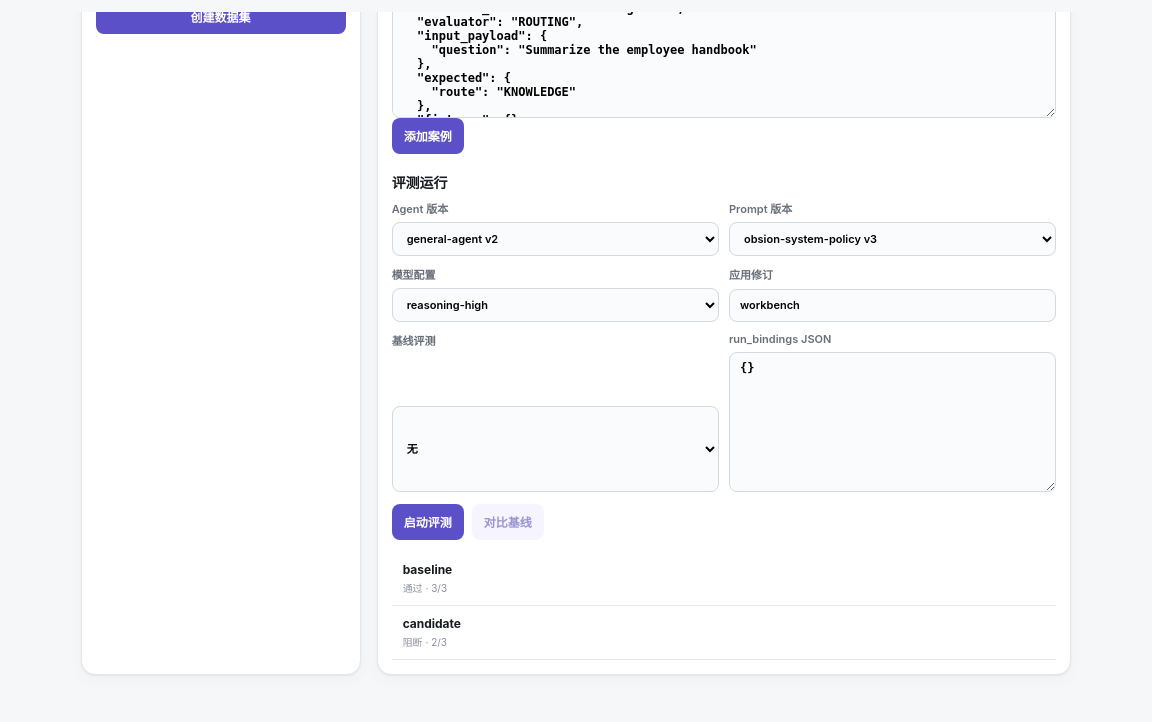
it: EvalView interactions › compares distinct same-dataset Runs and clears the baseline on dataset switch
Click the button "candidate 阻断 · 2/3" at [432, 623], box [392, 606, 1056, 660]
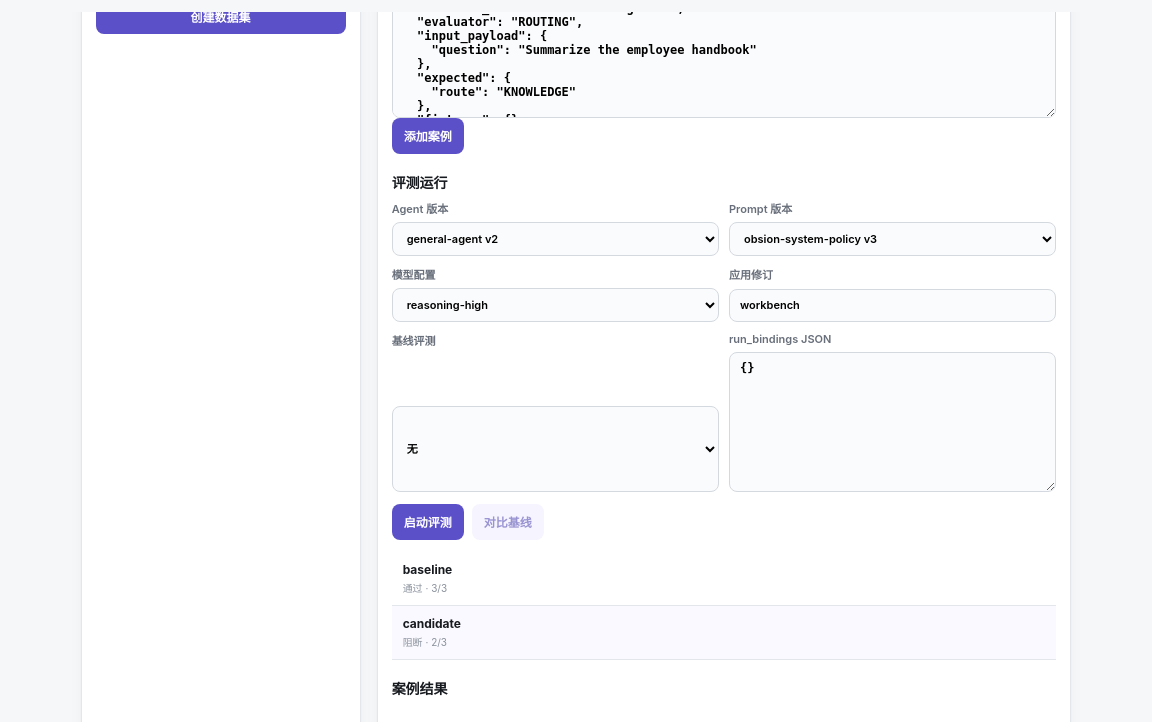
Select "baseline" in the dropdown labelled "基线评测" at [555, 449], box [392, 406, 719, 492]
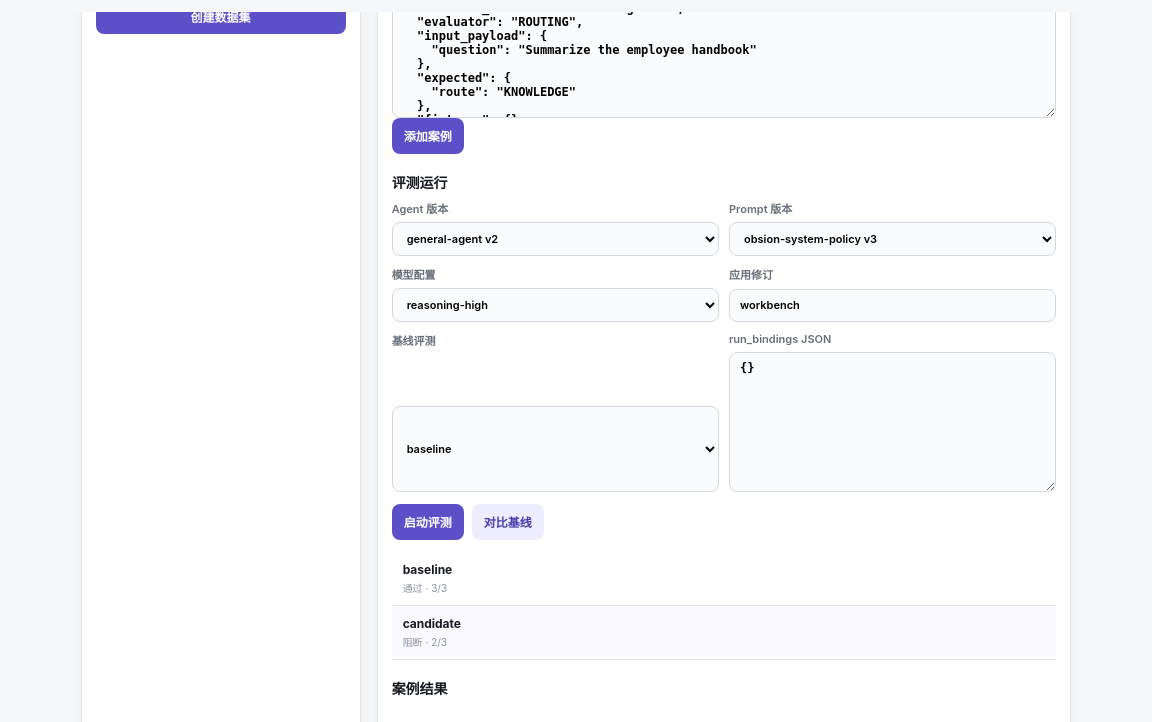
Click the button "对比基线" at [508, 522], box [472, 504, 544, 540]
(page scrolled)
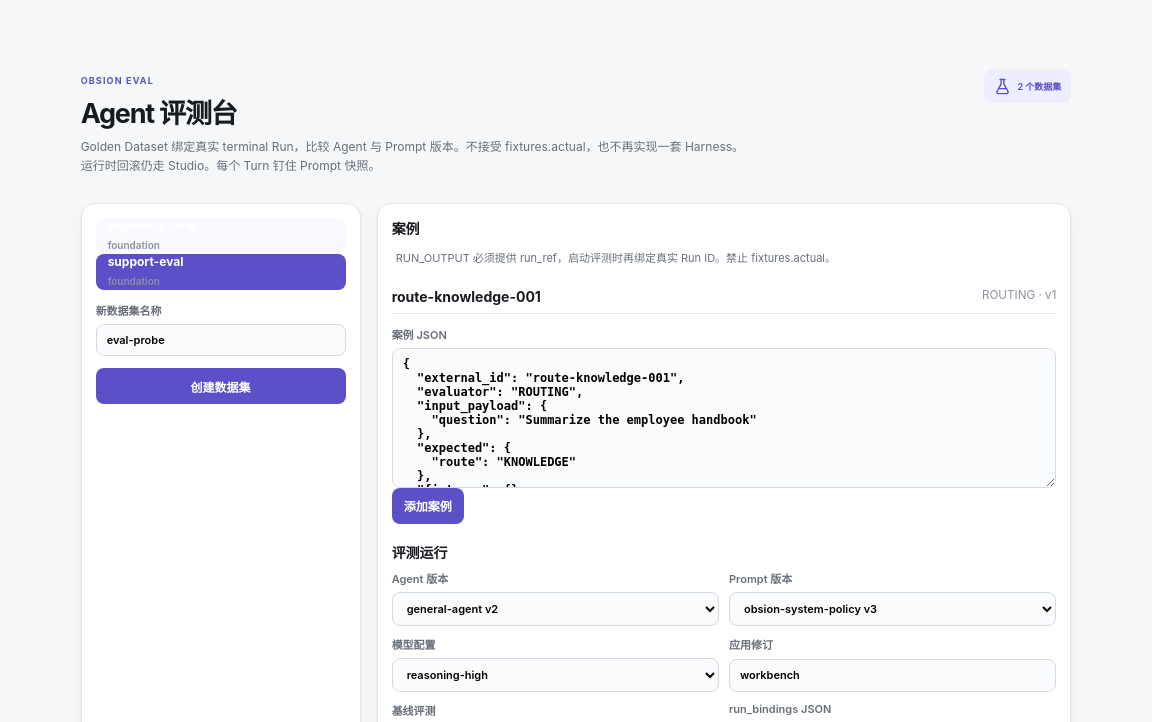
Click the button "support-eval foundation" at [221, 272], box [96, 254, 346, 290]
(page scrolled)
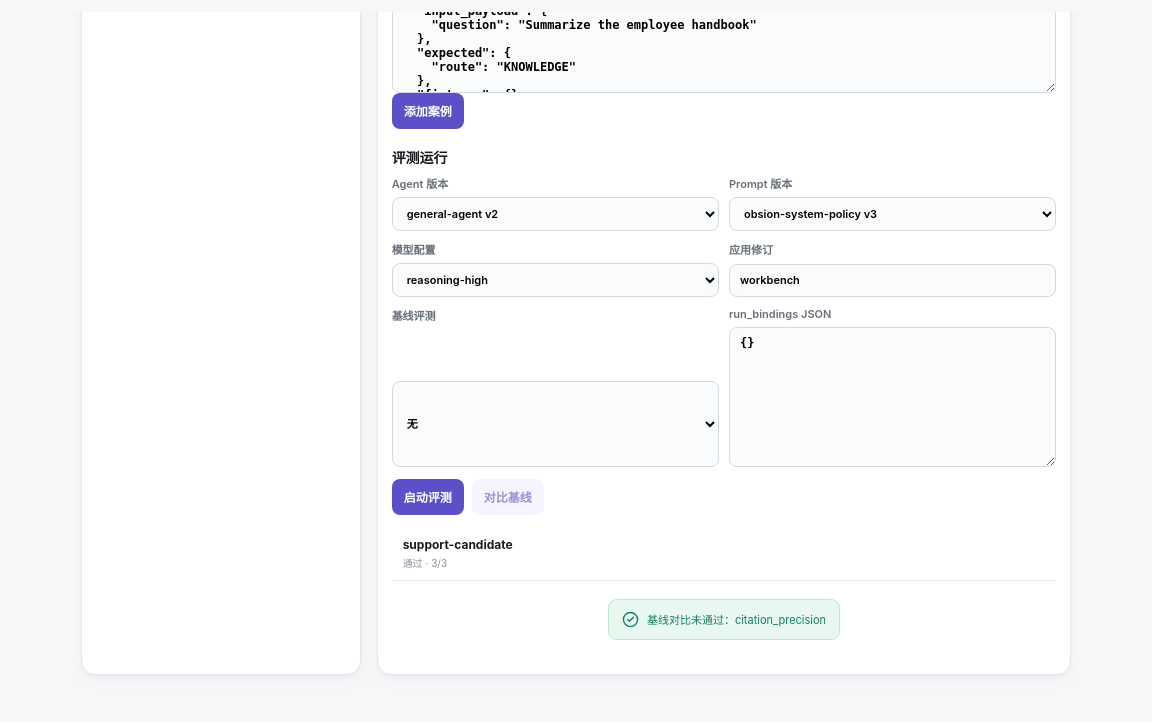
Result: the button "对比基线" is disabled at [472, 479, 544, 515]
